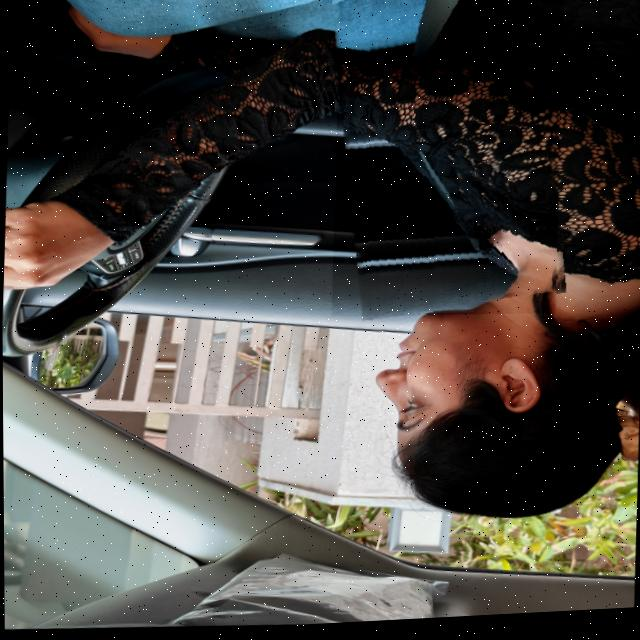seatbelt: (329, 0, 566, 328)
